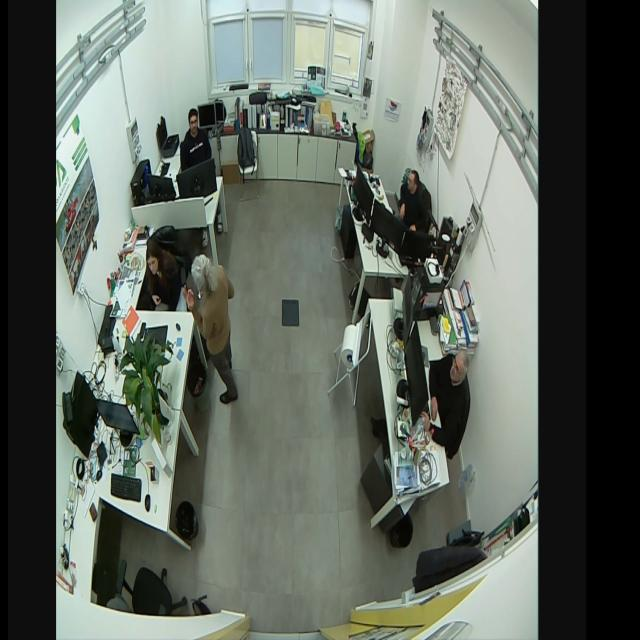Persona: (187, 234, 236, 397), (423, 347, 470, 445), (144, 240, 187, 312), (397, 168, 430, 241), (179, 106, 214, 170)
